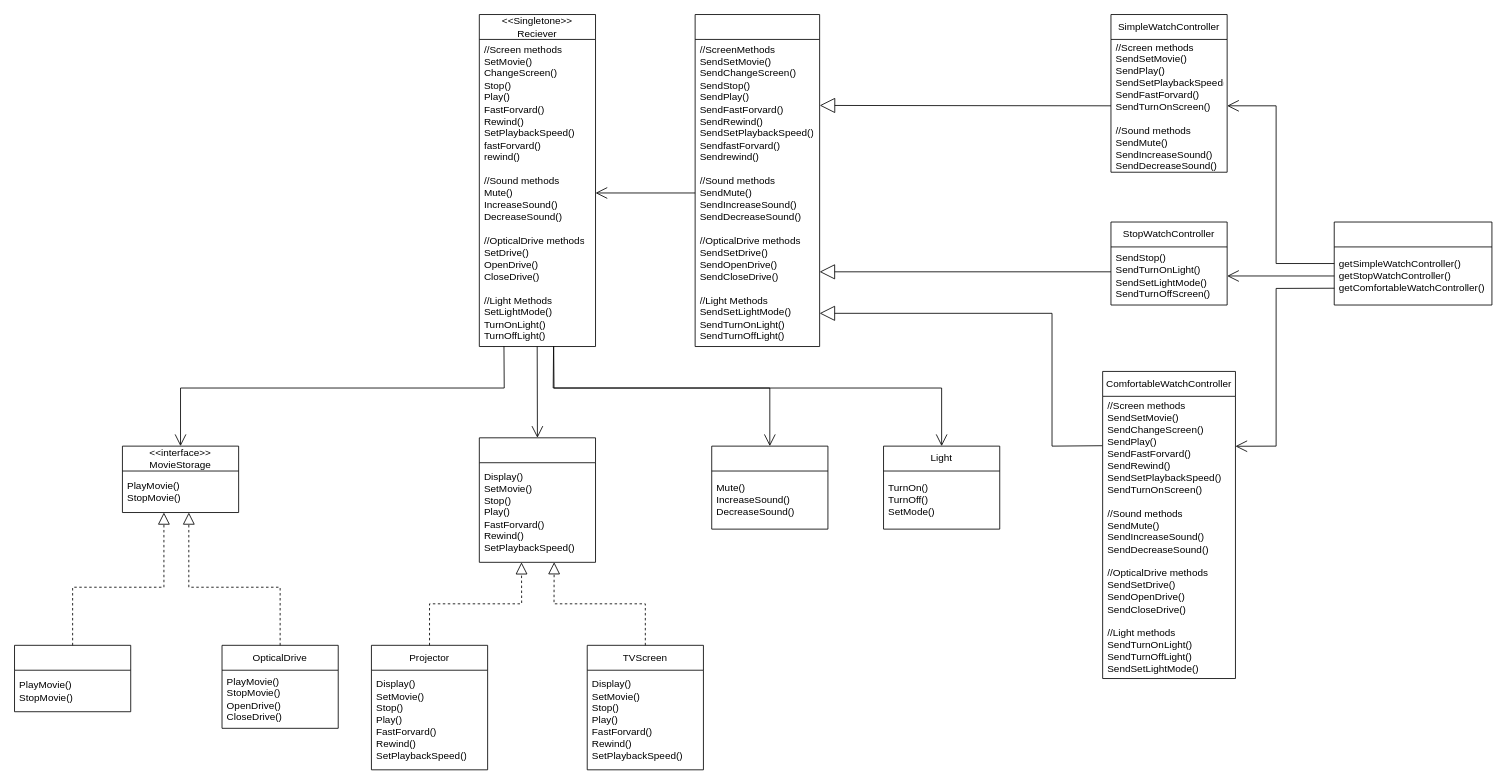
Some shapes in this 1506 by 784 pixel diagram are drawn without their labels. Each missing label, with the box of its shape:
<<Abstract>> RemoteControl: (694, 14, 820, 347)
<<interface>> Screen: (478, 437, 596, 562)
FlashDrive: (14, 644, 131, 712)
Speakers: (711, 445, 828, 529)
SystemRemoteControl: (1333, 221, 1492, 305)
